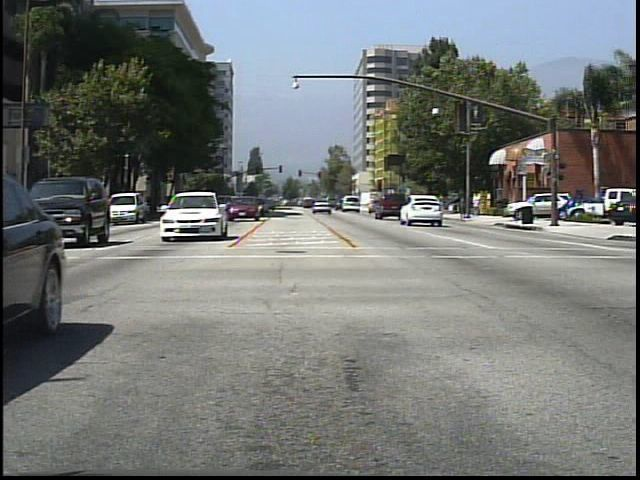person: (436, 191, 449, 219), (472, 191, 485, 218)
